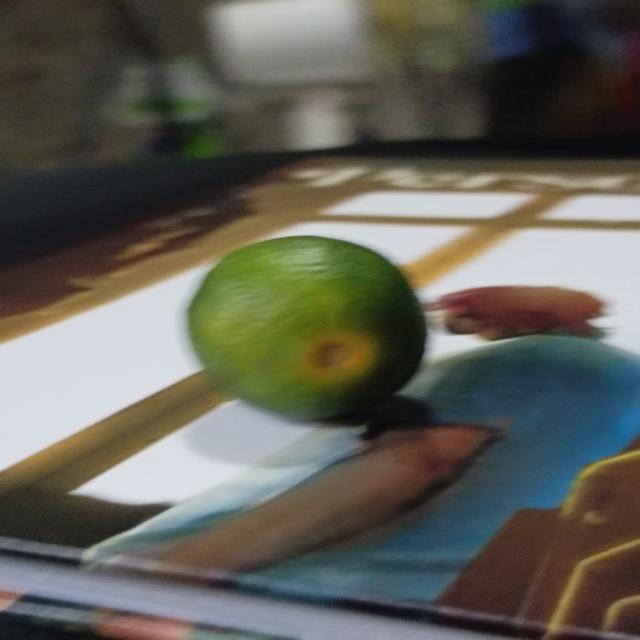heathy: (190, 233, 436, 418)
